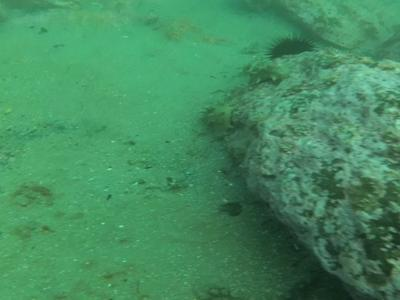holothurian: (196, 96, 240, 138), (240, 64, 290, 86)
urchin: (266, 33, 322, 59)
